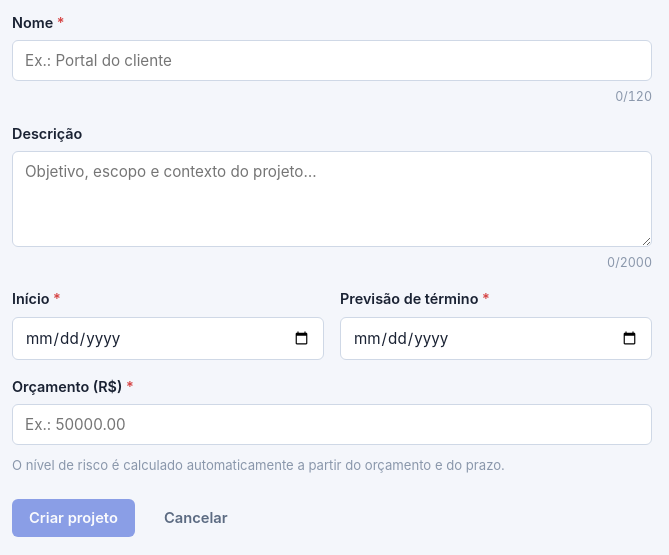
Test case: ProjectForm › valida em tempo real ao tocar um campo inválido (sem submeter)
Type "Portal" into the field labelled "Nome *" at {"x": 332, "y": 61}, box [12,40,652,81]
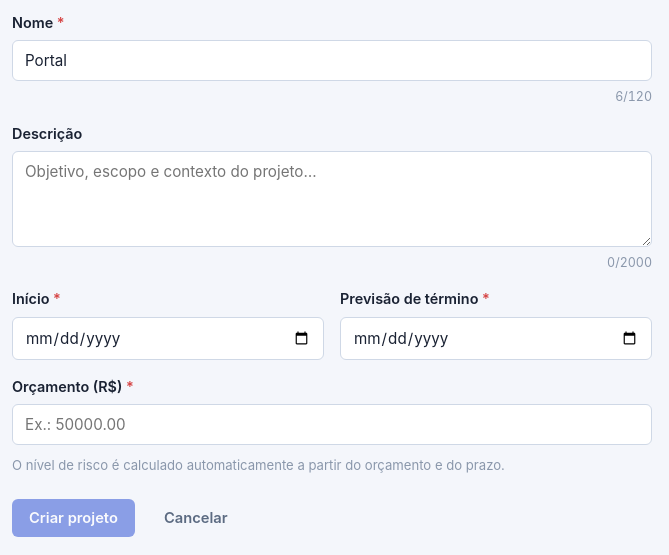
Clear the field labelled "Nome *" at {"x": 332, "y": 61}, box [12,40,652,81]
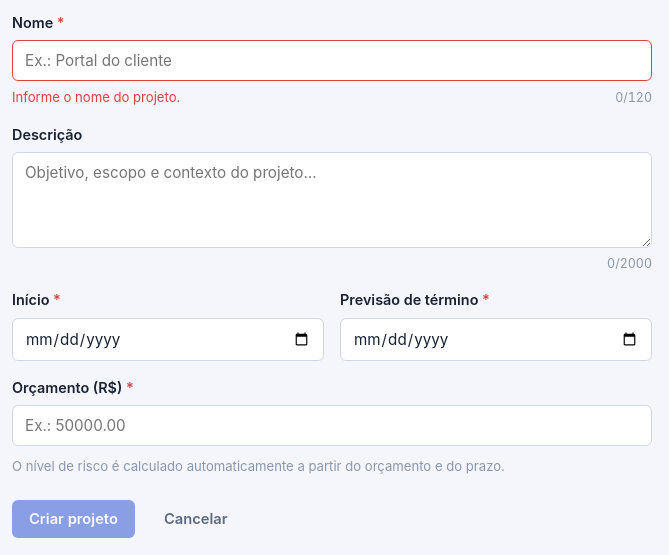
Expected: the text "Informe o nome do projeto." is shown, [12,87,180,108]
